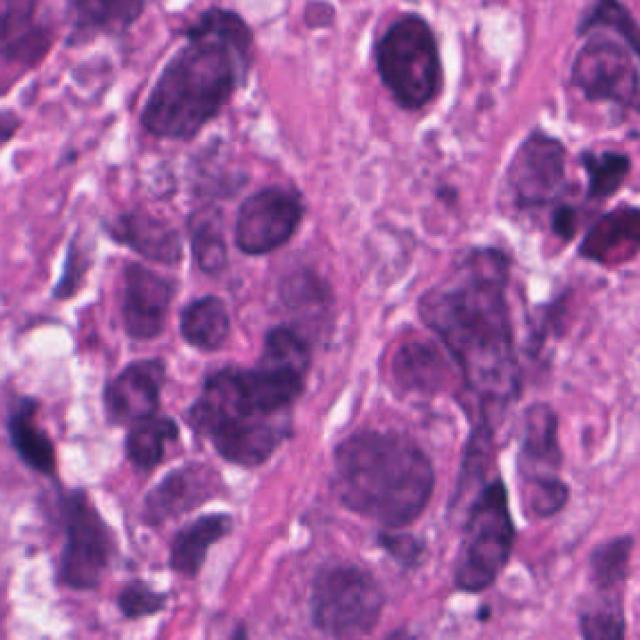apoptotic_body: (558, 41, 640, 107), (0, 397, 57, 474), (529, 194, 583, 256), (579, 142, 629, 197), (112, 574, 166, 614)
tumor: (419, 245, 524, 400), (324, 411, 437, 540), (171, 365, 292, 461), (135, 33, 235, 144), (449, 487, 524, 588), (371, 6, 440, 111), (303, 553, 383, 640), (380, 332, 458, 400), (235, 184, 303, 255), (180, 0, 266, 52), (96, 361, 164, 424), (159, 515, 234, 570), (178, 199, 232, 273), (250, 323, 314, 385), (119, 260, 169, 334), (513, 389, 562, 463), (116, 208, 173, 264), (116, 413, 176, 465), (180, 291, 230, 350), (519, 468, 570, 520)
unlabeled: (52, 498, 109, 583), (185, 146, 250, 208), (45, 231, 94, 301)
